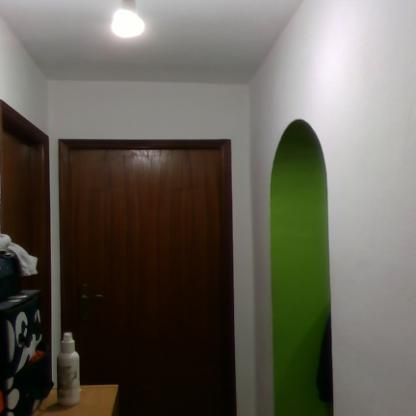door: (67, 147, 238, 416), (1, 120, 50, 386)
lever: (78, 292, 106, 303)
